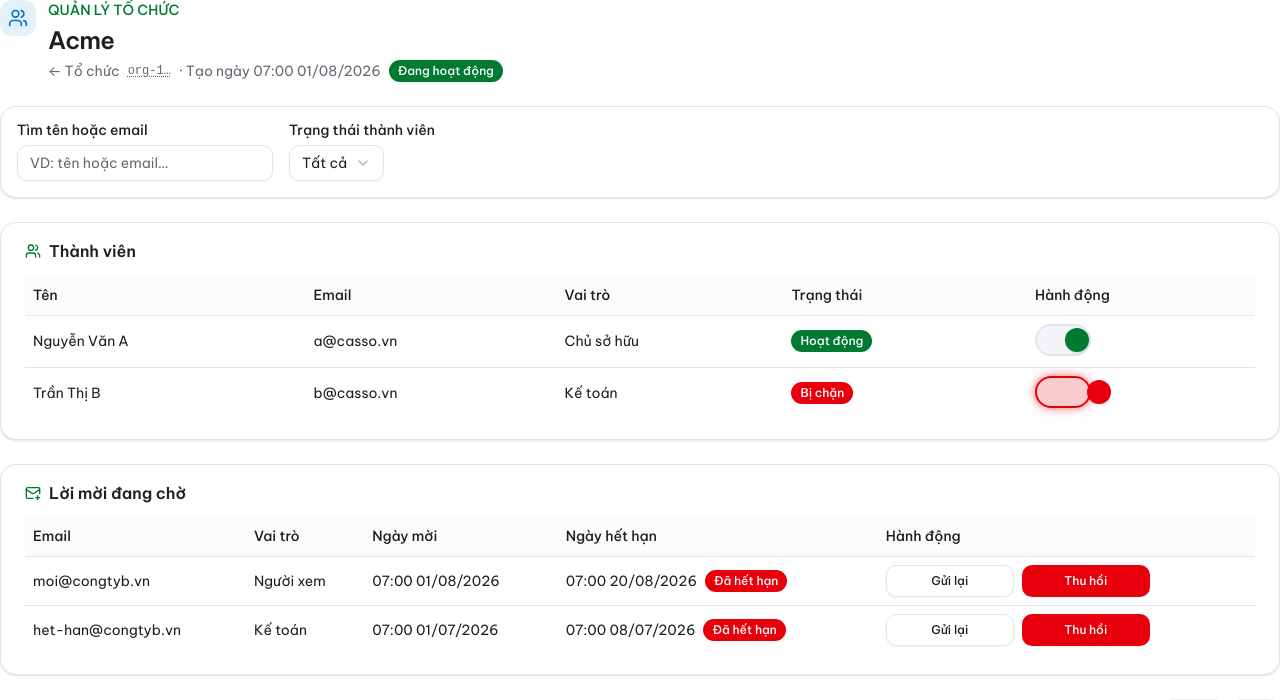
Test: AdminOrganizationMembersPage › member table › disables the row switch while its mutation is pending
Check: the text "Nguyễn Văn A" is shown, box [33, 332, 129, 350]
Click the switch named "Chặn Nguyễn Văn A": (1063, 340) [1035, 324, 1091, 356]
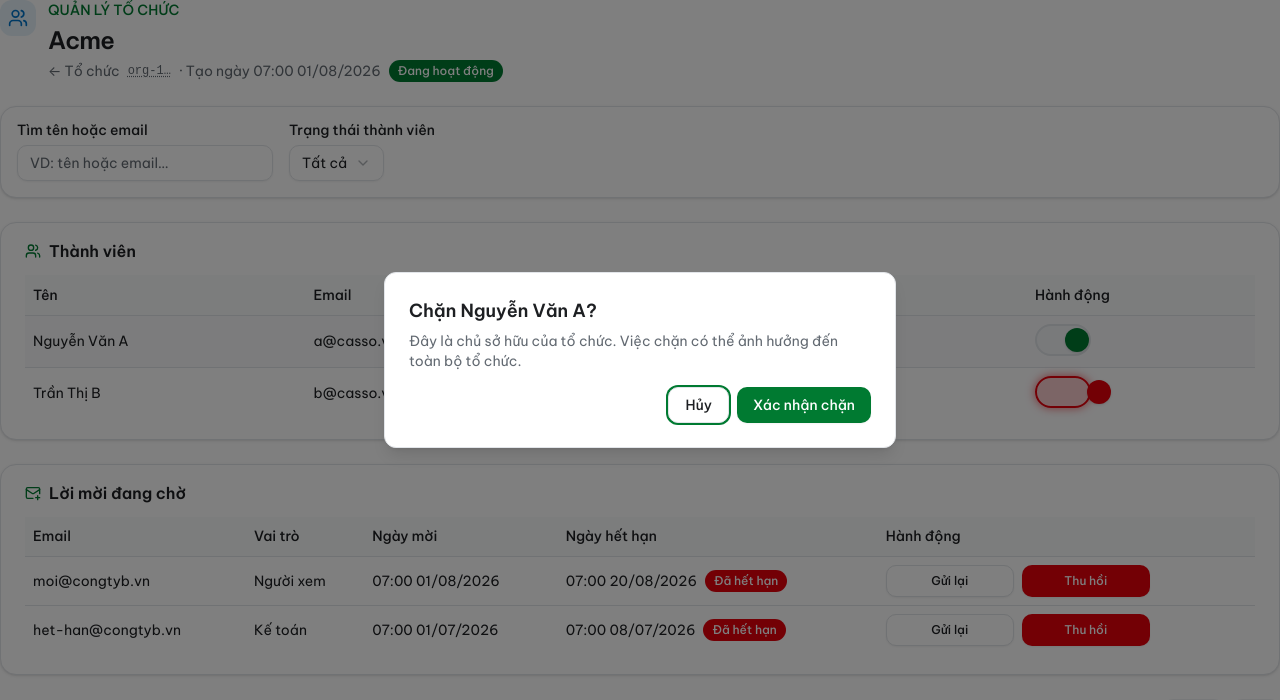
Click the button "Xác nhận chặn": (804, 405) [737, 387, 871, 423]
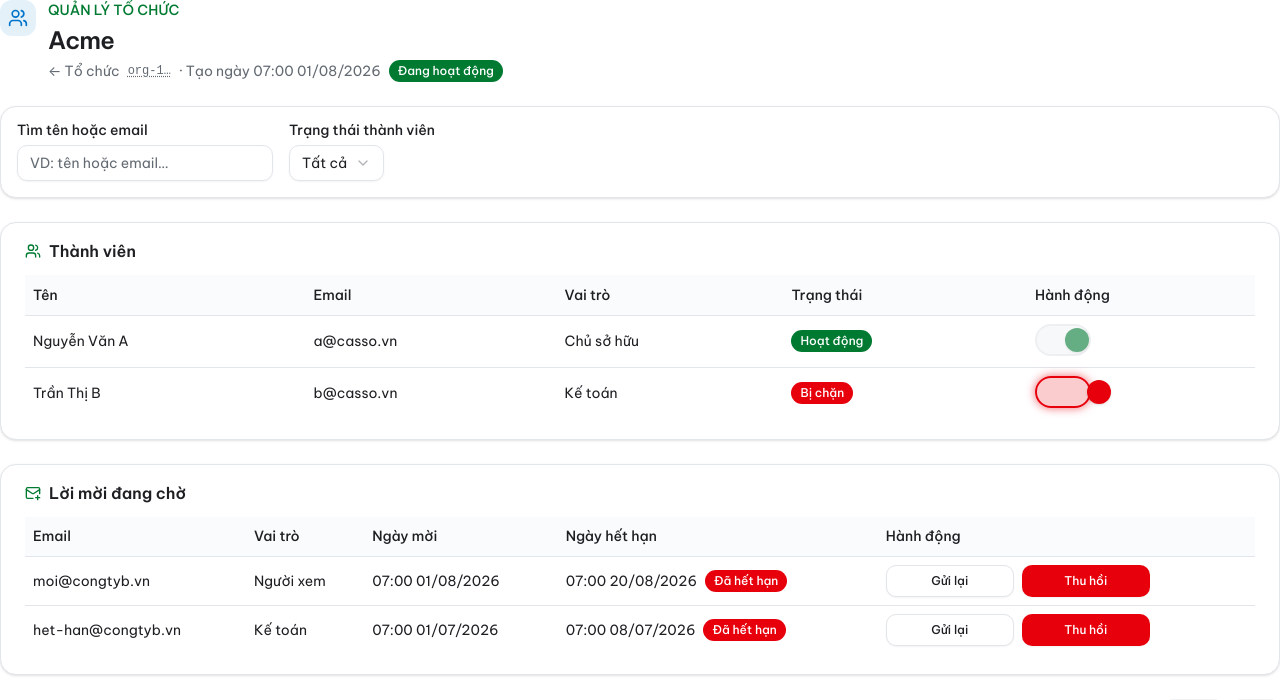
Check: the switch named "Chặn Nguyễn Văn A" is disabled, box [1035, 324, 1091, 356]
